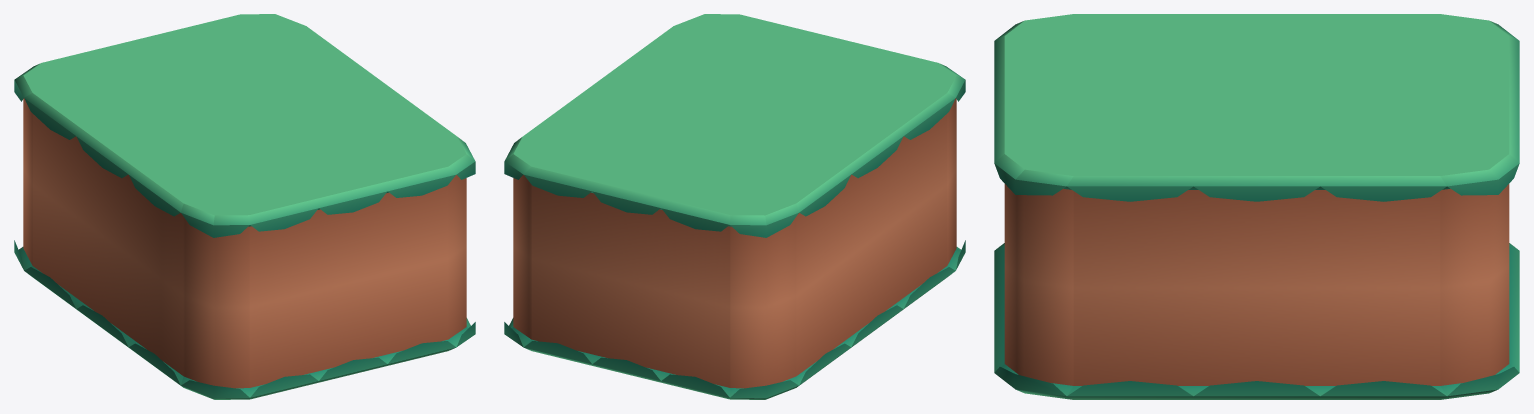
Rendered from island-flip.glb.
3 renders of one model, left to right at view 1: azimuth 30°, elevation 25°; view 2: azimuth 150°, elevation 25°; view 3: azimuth 270°, elevation 25°, orthographic. The views are drawn at different scales.
Visible parts, largest first — view 1: island-flip; view 2: island-flip; view 3: island-flip.
Boxes of the visible parts, <box> form: island-flip: <box>14,14,475,399</box>; island-flip: <box>504,14,965,399</box>; island-flip: <box>994,14,1519,399</box>.
Bounding box in the file's own units: 30.4 × 18.8 × 40.
Materials: 1 (1 with a texture image).
